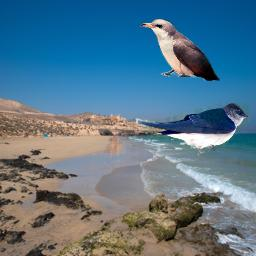Cuckoo: (140, 19, 220, 81)
Swallow: (140, 103, 250, 157)
